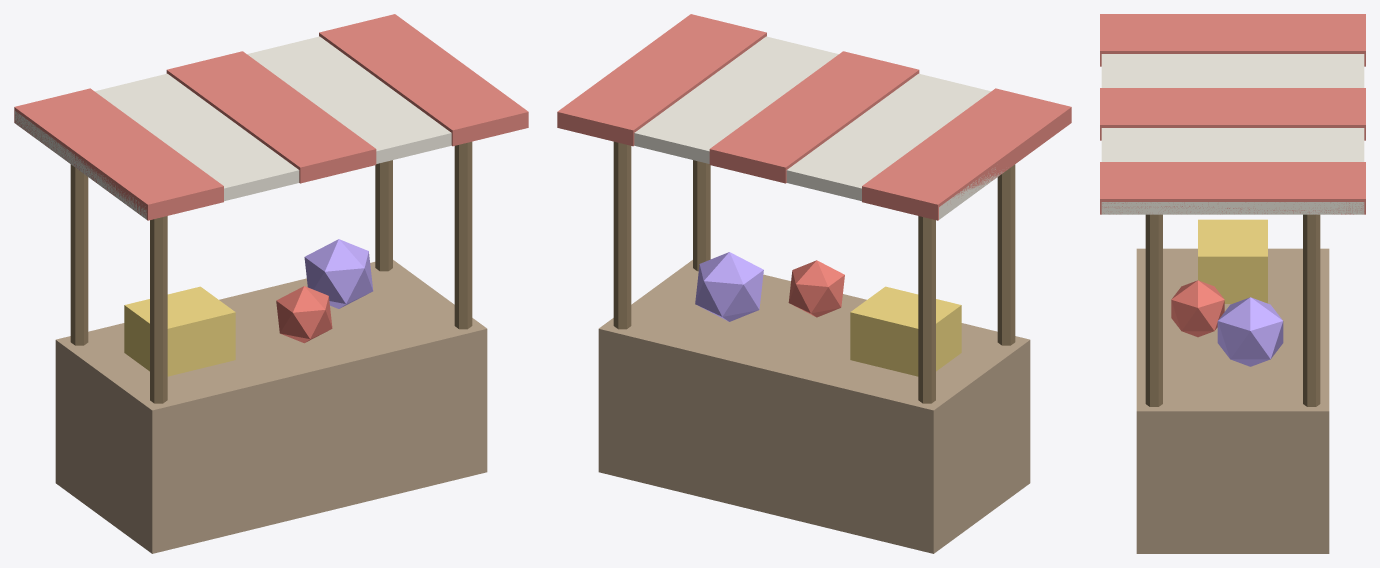
File: shop_stall.glb
The picture shows the model from 3 angles, left to right: view 1: azimuth 30°, elevation 25°; view 2: azimuth 150°, elevation 25°; view 3: azimuth 270°, elevation 25°; orthographic projection.
Visible parts, largest first — view 1: shop_stall; view 2: shop_stall; view 3: shop_stall.
Boxes of the visible parts, x1,y1,x2,y2 form: shop_stall: (14,14,528,553); shop_stall: (557,14,1071,553); shop_stall: (1100,14,1365,553).
Bounding box in the file's own units: 2.5 × 2.31 × 1.52.
